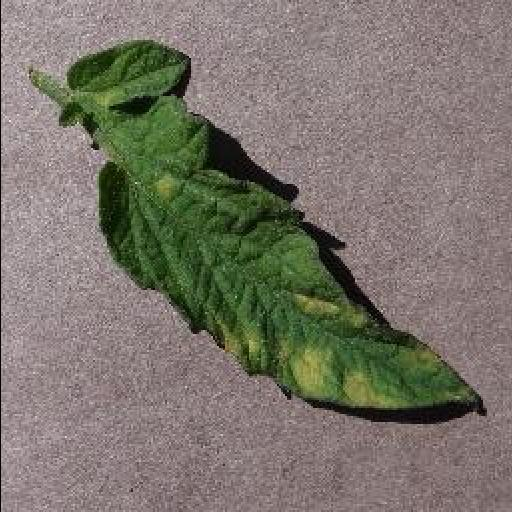disease_tomato: (65, 39, 483, 411)
